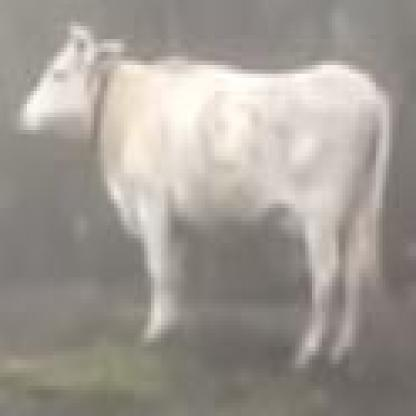cow: (14, 22, 389, 368)
